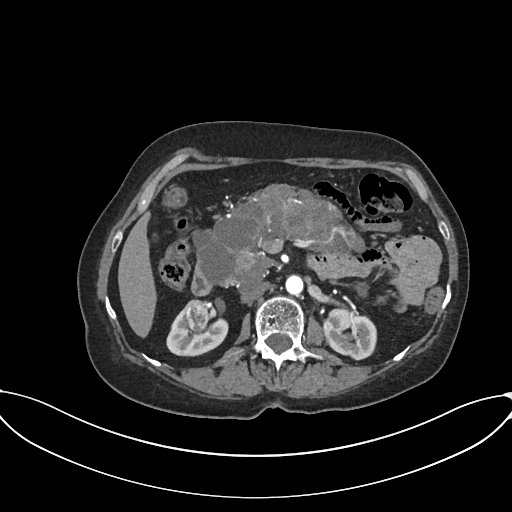Lesion: (320, 321, 334, 333)
